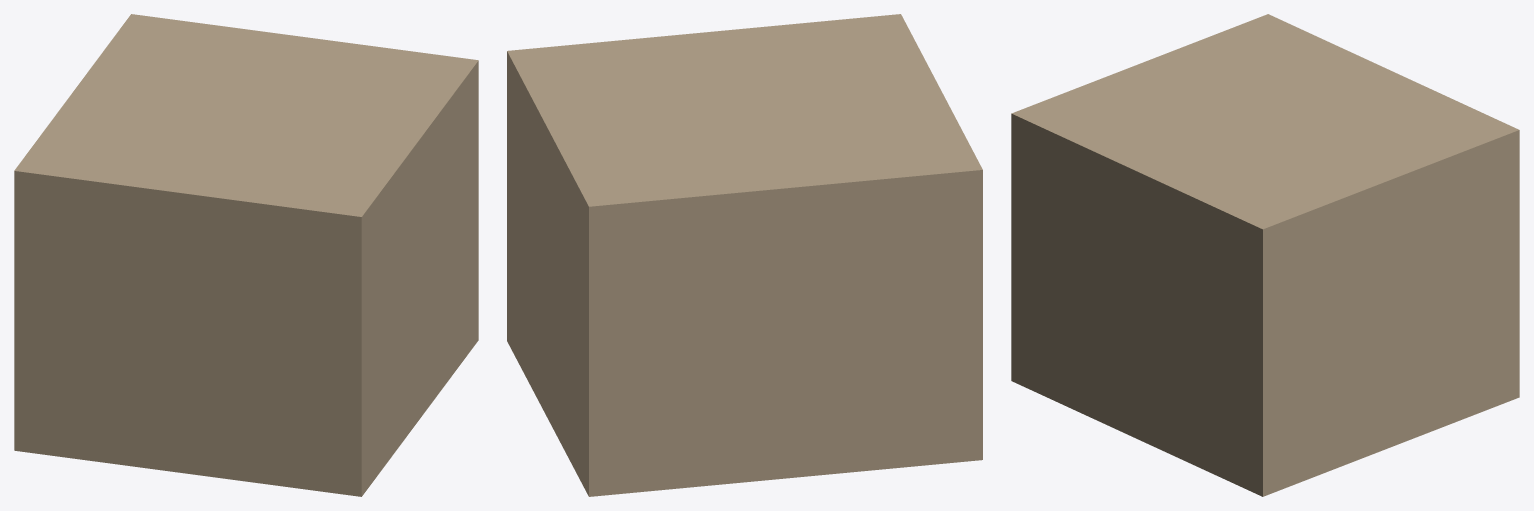
File: bld_55879441.dae
The picture shows the model from 3 angles, left to right: view 1: azimuth 30°, elevation 25°; view 2: azimuth 150°, elevation 25°; view 3: azimuth 270°, elevation 25°; orthographic projection. The views are drawn at different scales.
Visible parts, largest first — view 1: bld_55879441; view 2: bld_55879441; view 3: bld_55879441.
Part boxes in pixels (<box>): bld_55879441: <box>14,14,478,496</box>; bld_55879441: <box>507,14,982,496</box>; bld_55879441: <box>1011,14,1519,496</box>.
Bounding box in the file's own units: 13.82 × 13.77 × 8.
